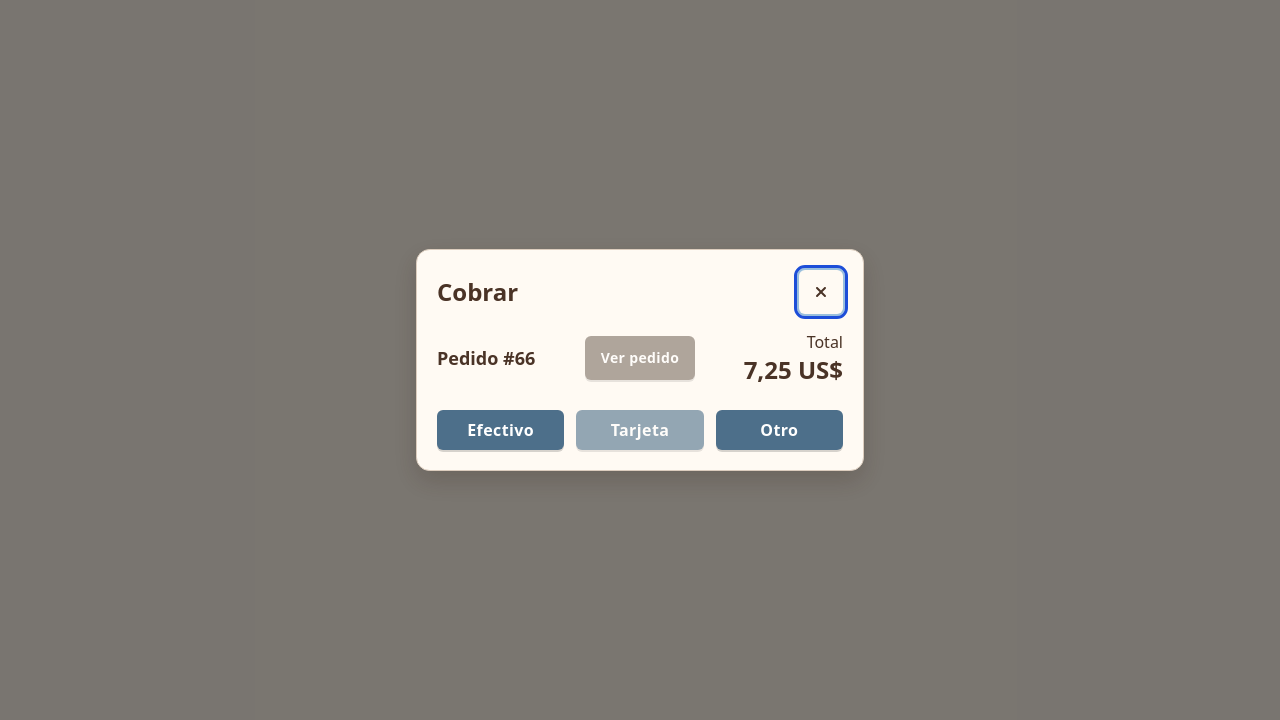
Test: PaymentChooser › translates manual payment confirmation
This screenshot has width=1280, height=720.
Click the button "Efectivo" at (501, 430), box [437,410,564,450]
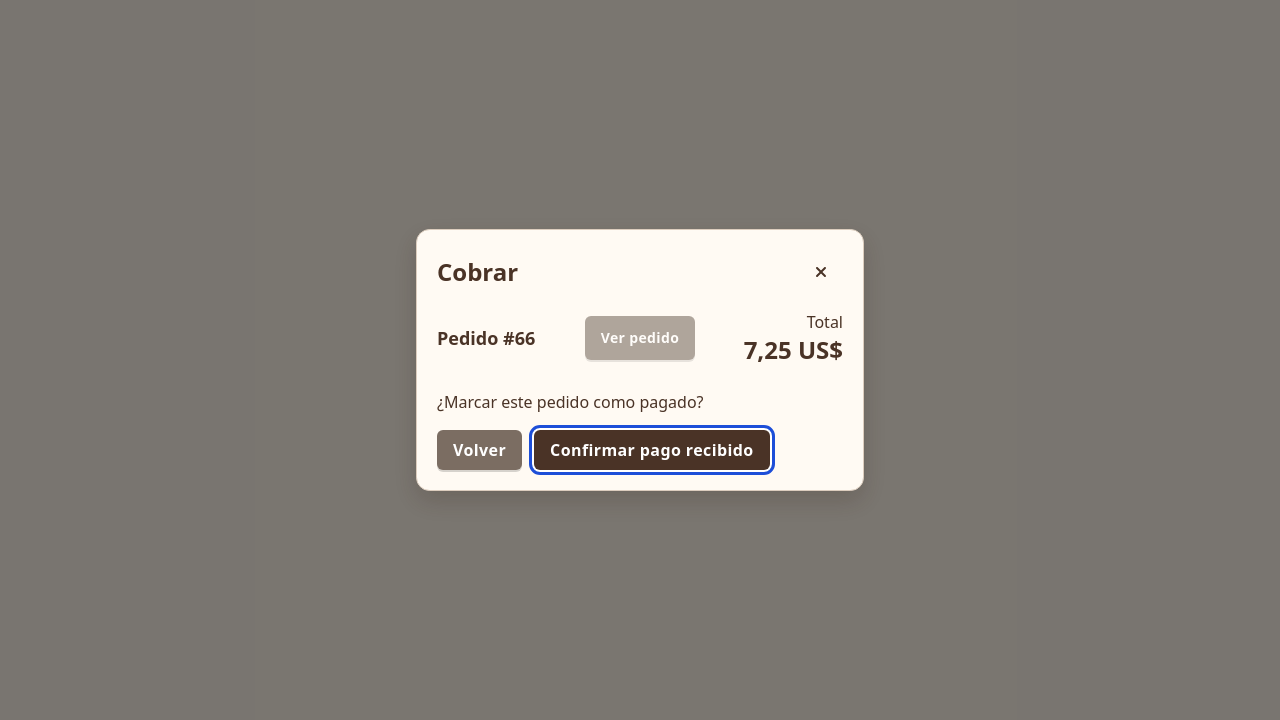
Check: the text "¿Marcar este pedido como pagado?" is shown, box [437,391,704,413]
Check: the button "Confirmar pago recibido" is enabled, box [534,430,770,470]
Check: the button "Volver" is enabled, box [437,430,522,470]
